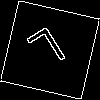L: (25, 25, 74, 79)
